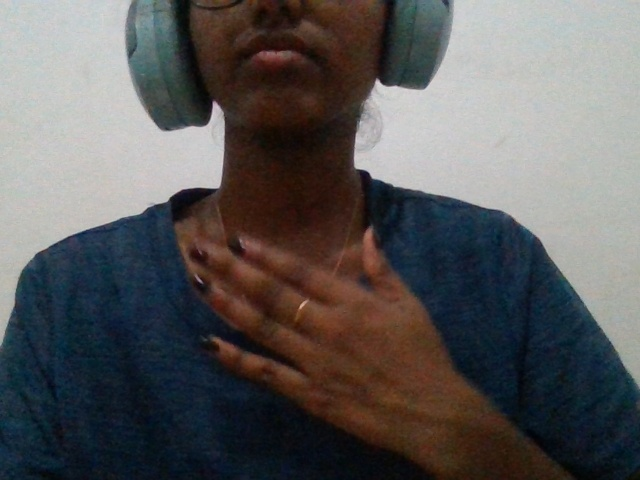Please: (159, 206, 519, 480)
